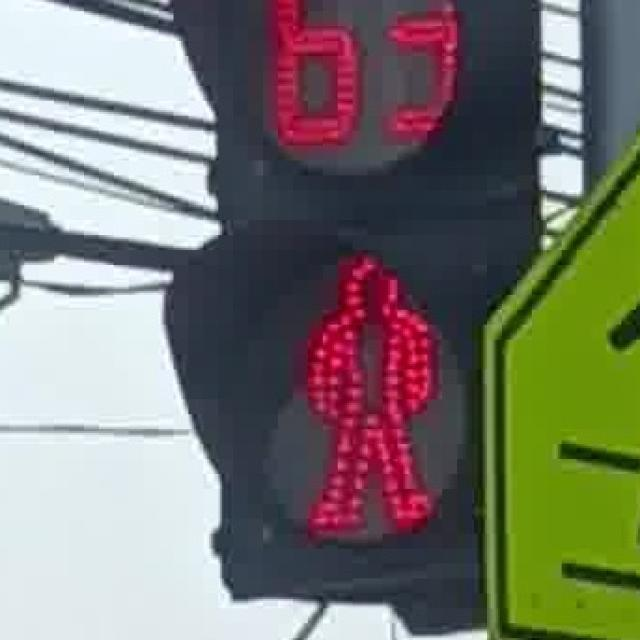red-crossing: (268, 240, 450, 540)
